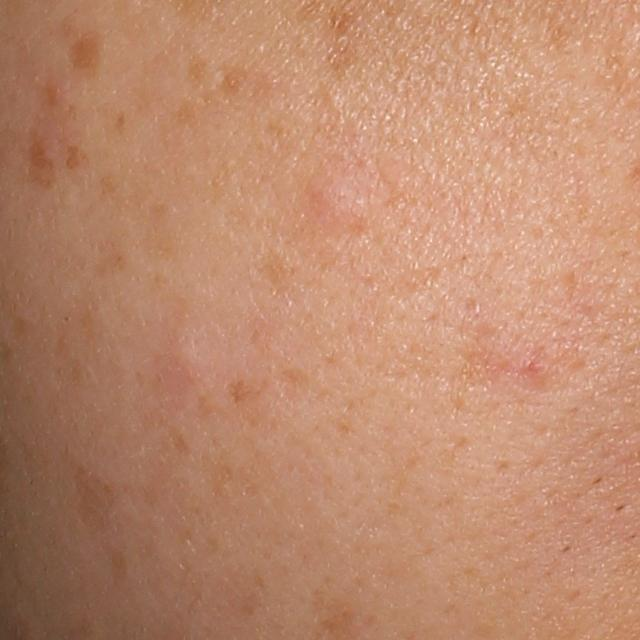melasma: (62, 29, 100, 86), (22, 128, 58, 187), (218, 62, 247, 98), (182, 55, 208, 88)
papule: (303, 172, 366, 235)
